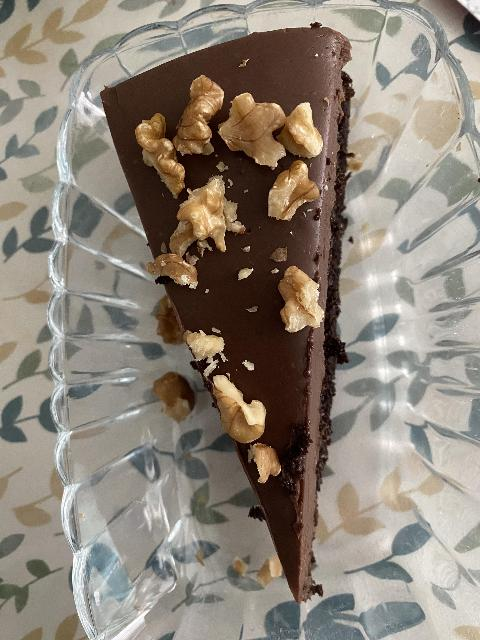Organik: (167, 14, 359, 586), (202, 321, 243, 444), (143, 98, 192, 192), (237, 95, 292, 163), (233, 411, 278, 494), (186, 181, 235, 257), (125, 260, 221, 295), (186, 83, 230, 159), (278, 100, 335, 157), (303, 262, 344, 337)
